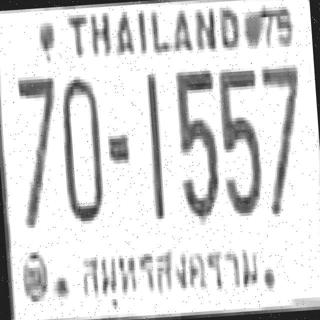N00: (57, 72, 105, 222)
N01: (142, 69, 166, 218), (144, 71, 166, 219)
N05: (173, 67, 221, 220), (216, 64, 264, 214)
N07: (14, 72, 63, 225), (258, 61, 306, 214)
P59: (73, 231, 262, 314)
